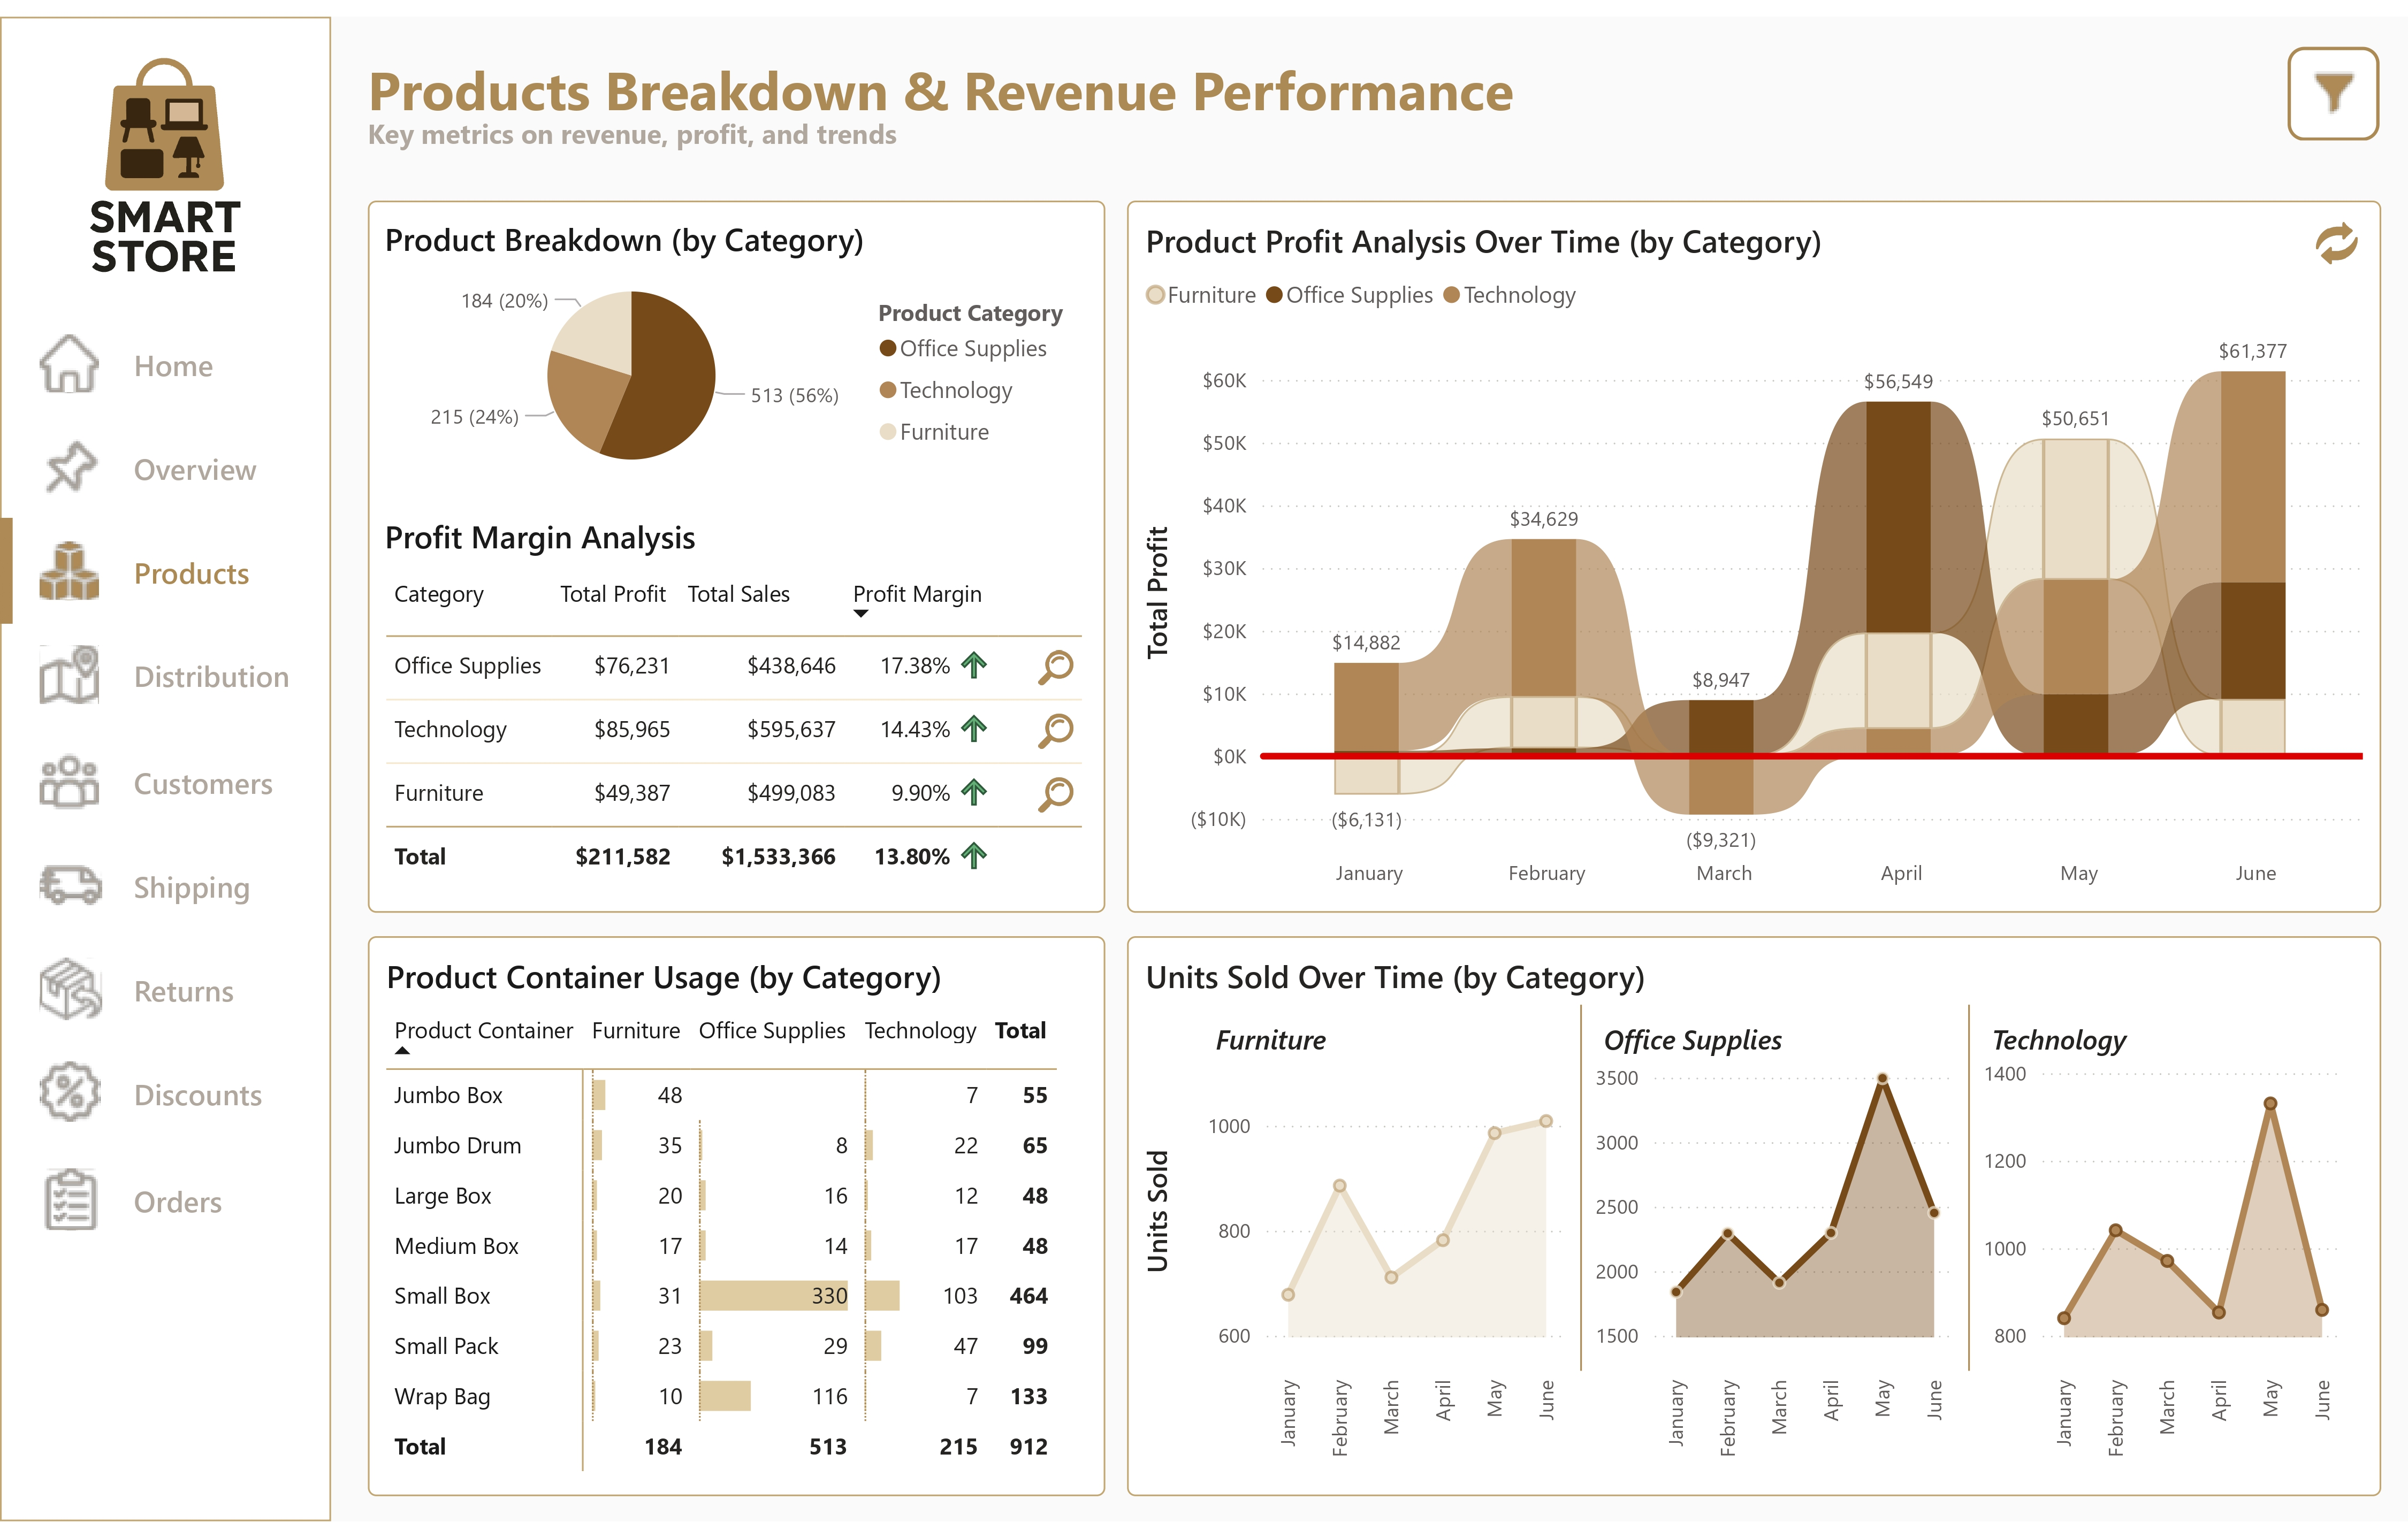

What the dashboard file says about the page in this screenshot:
{"tool":"powerbi","page":{"name":"Products","canvas":[1440,900],"ordinal":2},"visuals":[{"type":"shape","box":[0,0,197.5,900],"z":0},{"type":"ribbonChart","title":"Product Profit Analysis Over Time (by Category)","fields":{"Category":["DateTable.Month Name"],"Series":["Products.product_category"],"Y":["OrderItems.Total Profit1"]},"box":[673.8,110,750,426.2],"z":0,"group":"g1"},{"type":"actionButton","box":[220,110,441.2,426.2],"z":1000},{"type":"image","title":"Swap","box":[1378.8,118.8,35,35],"z":1000,"group":"g1"},{"type":"actionButton","box":[0,175,197.5,62.5],"z":2000},{"type":"actionButton","box":[0,487.5,197.5,62.5],"z":3000},{"type":"actionButton","box":[0,237.5,197.5,62.5],"z":4000},{"type":"actionButton","box":[0,362.5,197.5,62.5],"z":5000},{"type":"actionButton","box":[0,425,197.5,62.5],"z":6000},{"type":"actionButton","box":[0,300,196,62.5],"z":7000},{"type":"textbox","box":[220,54.4,390,34.4],"z":9000},{"type":"textbox","box":[220,15,717.5,61.2],"z":10000},{"type":"actionButton","title":"Show Filters Btn","box":[1368.8,17.5,55,56.2],"z":11000},{"type":"actionButton","box":[0,550,197.1,62.9],"z":12000},{"type":"tableEx","title":"Profit Margin Analysis","fields":{"Values":["Products.product_category","OrderItems.Total Profit","OrderItems.Total Sales","OrderItems.Profit Margin","Images.Drillthrough Icon2"]},"box":[220,288.8,441.2,247.5],"z":13000},{"type":"pieChart","title":"Product Breakdown (by Category)","fields":{"Category":["Products.product_category"],"Y":["CountNonNull(Products.product_id)"]},"box":[220,110,441.2,178.8],"z":14000},{"type":"pivotTable","title":"Product Container Usage (by Category)","fields":{"Columns":["Products.product_category"],"Values":["CountNonNull(Products.product_container)"],"Rows":["Products.product_container"]},"box":[220,550,441.2,335],"z":15000},{"type":"lineChart","title":"Units Sold Over Time (by Category)","fields":{"Category":["DateTable.Month Name"],"Y":["Sum(OrderItems.quantity_ordered_new)"],"Rows":["Products.product_category"],"Series":["Images.product_category"]},"box":[674,550,750,335],"z":16000},{"type":"actionButton","box":[0,675,197.5,62.5],"z":18000},{"type":"actionButton","box":[0,612.5,197.5,62.5],"z":19000},{"type":"image","box":[22.5,13.8,152.5,152.5],"z":20000},{"type":"group","id":"g1","title":"Chart1","box":[673.8,110,750,426.2],"z":21000}]}

Visuals, with their boxes in screenshot pixels (x1, y1, x2, y2), scaled from the page's 1440x900 canvas onto the 2408x1538 screenshot:
shape: bbox=[0, 0, 330, 1537]
"Product Profit Analysis Over Time (by Category)" ribbonChart: bbox=[1127, 188, 2381, 916]
actionButton: bbox=[368, 188, 1106, 916]
"Swap" image: bbox=[2306, 203, 2364, 263]
actionButton: bbox=[0, 299, 330, 406]
actionButton: bbox=[0, 833, 330, 940]
actionButton: bbox=[0, 406, 330, 512]
actionButton: bbox=[0, 619, 330, 726]
actionButton: bbox=[0, 726, 330, 833]
actionButton: bbox=[0, 512, 327, 619]
textbox: bbox=[368, 93, 1020, 152]
textbox: bbox=[368, 26, 1568, 130]
"Show Filters Btn" actionButton: bbox=[2289, 30, 2381, 126]
actionButton: bbox=[0, 940, 330, 1047]
"Profit Margin Analysis" tableEx: bbox=[368, 494, 1106, 916]
"Product Breakdown (by Category)" pieChart: bbox=[368, 188, 1106, 494]
"Product Container Usage (by Category)" pivotTable: bbox=[368, 940, 1106, 1512]
"Units Sold Over Time (by Category)" lineChart: bbox=[1127, 940, 2381, 1512]
actionButton: bbox=[0, 1153, 330, 1260]
actionButton: bbox=[0, 1047, 330, 1153]
image: bbox=[37, 24, 293, 284]
"Chart1" group: bbox=[1127, 188, 2381, 916]
